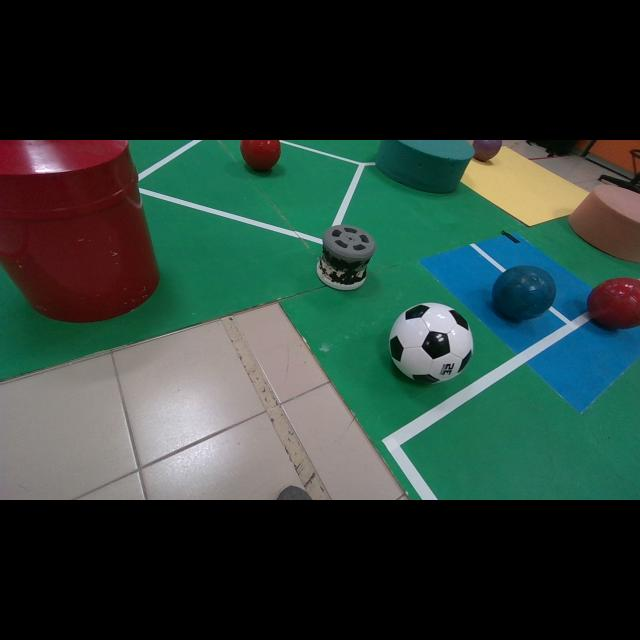B: (492, 265, 556, 321)
P: (474, 140, 502, 161)
R: (588, 278, 640, 329), (240, 140, 281, 171)
